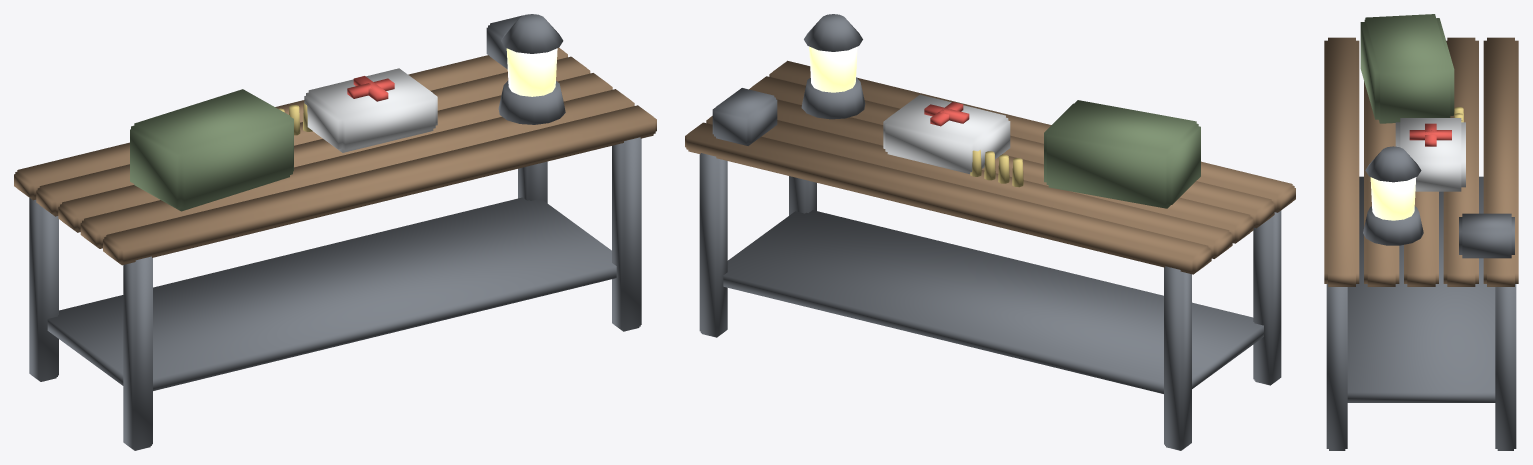
Rendered from supply-bench.glb.
3 renders of one model, left to right at view 1: azimuth 30°, elevation 25°; view 2: azimuth 150°, elevation 25°; view 3: azimuth 270°, elevation 25°, orthographic. The views are drawn at different scales.
Parts seen in each view (by area): view 1: SupplyBench; view 2: SupplyBench; view 3: SupplyBench.
Boxes of the visible parts, <box> form: SupplyBench: <box>14,14,656,450</box>; SupplyBench: <box>685,14,1295,450</box>; SupplyBench: <box>1324,14,1518,450</box>.
Size of the model in its own units: 2.38 by 1.26 by 0.83.
